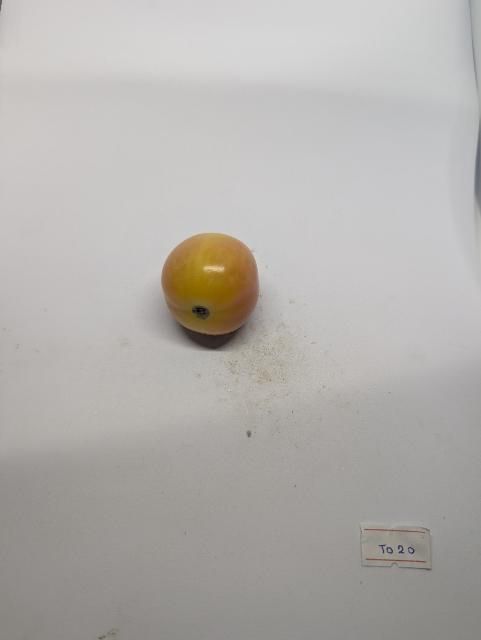turning: (153, 222, 268, 347)
